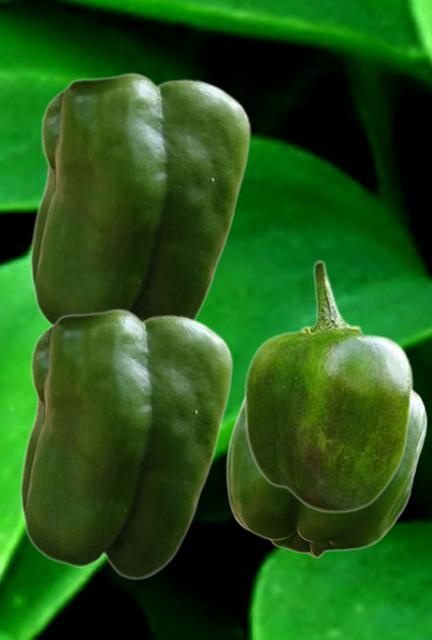bell_pepper: (19, 308, 233, 579), (29, 72, 251, 325), (243, 259, 413, 513), (225, 389, 426, 557)
